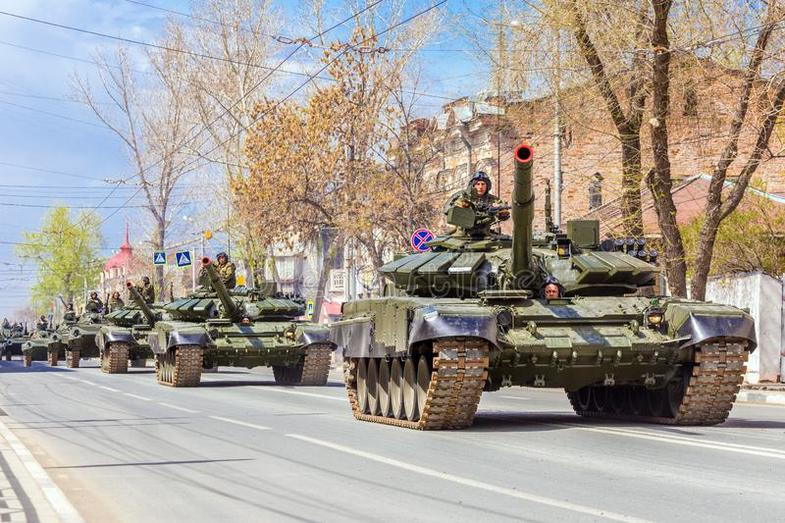t72: (340, 145, 750, 424)
